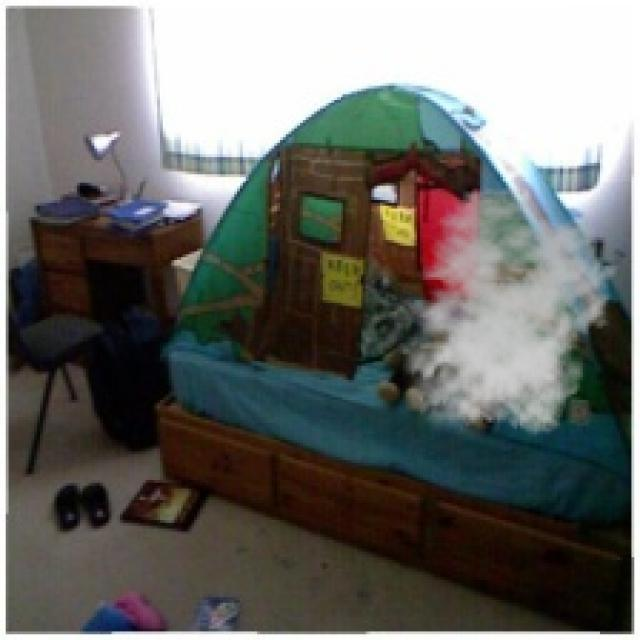Smoke: (392, 186, 617, 443)
